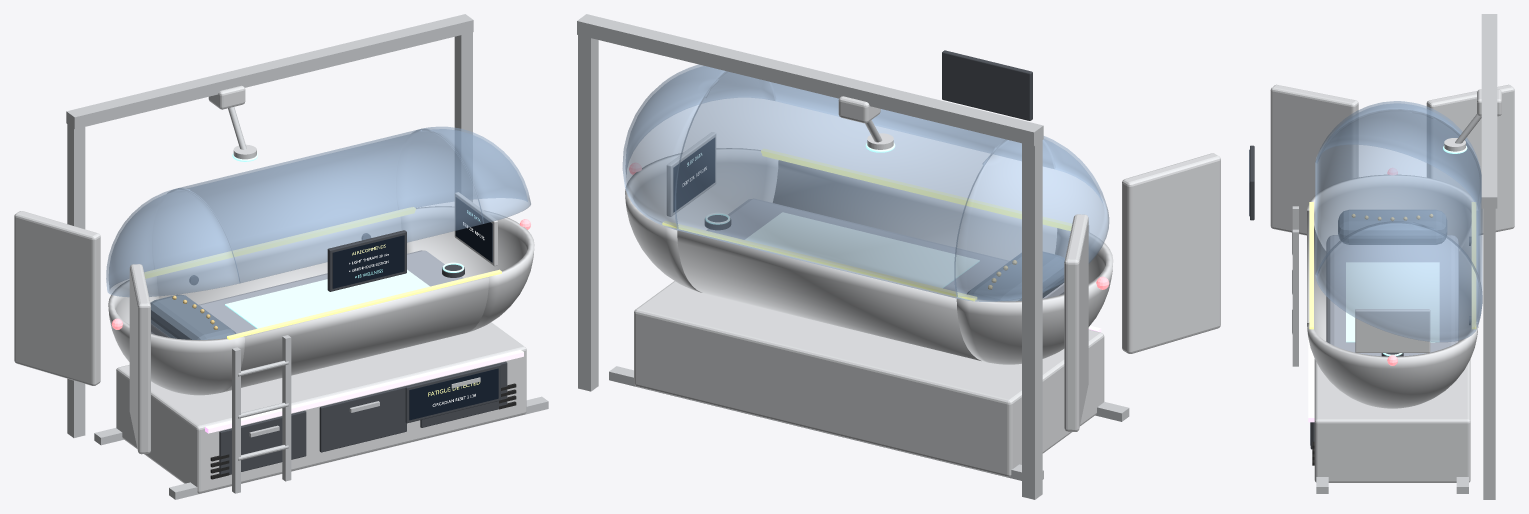
Rendered from recovery_pod_fatigue.glb.
3 views of the same model, side by side, from view 1: azimuth 30°, elevation 25°; view 2: azimuth 150°, elevation 25°; view 3: azimuth 270°, elevation 25° (orthographic). The views are drawn at different scales.
Visible parts, largest first — view 1: Drawer_Handle, Smart_Canopy, Pod_Shell, Projector_Ring, Circadian_Strip, Aurora_Strip; view 2: Drawer_Handle, Smart_Canopy, Pod_Shell, Projector_Ring, Circadian_Strip; view 3: Drawer_Handle, Smart_Canopy, Pod_Shell, Projector_Ring, Circadian_Strip, Aurora_Strip.
Boxes of the visible parts, x1,y1,x2,y2 form: Drawer_Handle: (14, 14, 548, 499); Smart_Canopy: (106, 126, 530, 297); Pod_Shell: (108, 206, 534, 395); Projector_Ring: (225, 153, 480, 328); Circadian_Strip: (111, 207, 530, 396); Aurora_Strip: (205, 349, 523, 433); Drawer_Handle: (577, 14, 1220, 499); Smart_Canopy: (622, 64, 1109, 301); Pod_Shell: (625, 148, 1113, 364); Projector_Ring: (687, 142, 979, 288); Circadian_Strip: (629, 148, 1109, 301); Drawer_Handle: (1249, 14, 1514, 499); Smart_Canopy: (1315, 101, 1482, 342); Pod_Shell: (1307, 174, 1478, 408); Projector_Ring: (1346, 146, 1467, 356); Circadian_Strip: (1309, 167, 1476, 365); Aurora_Strip: (1308, 338, 1314, 422).
Size of the model in its own units: 3.16 by 2.14 by 1.7.
Materials: 7 (7 with a texture image).
